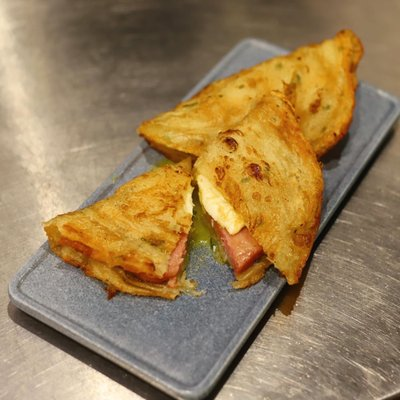soup: (42, 162, 203, 301)
